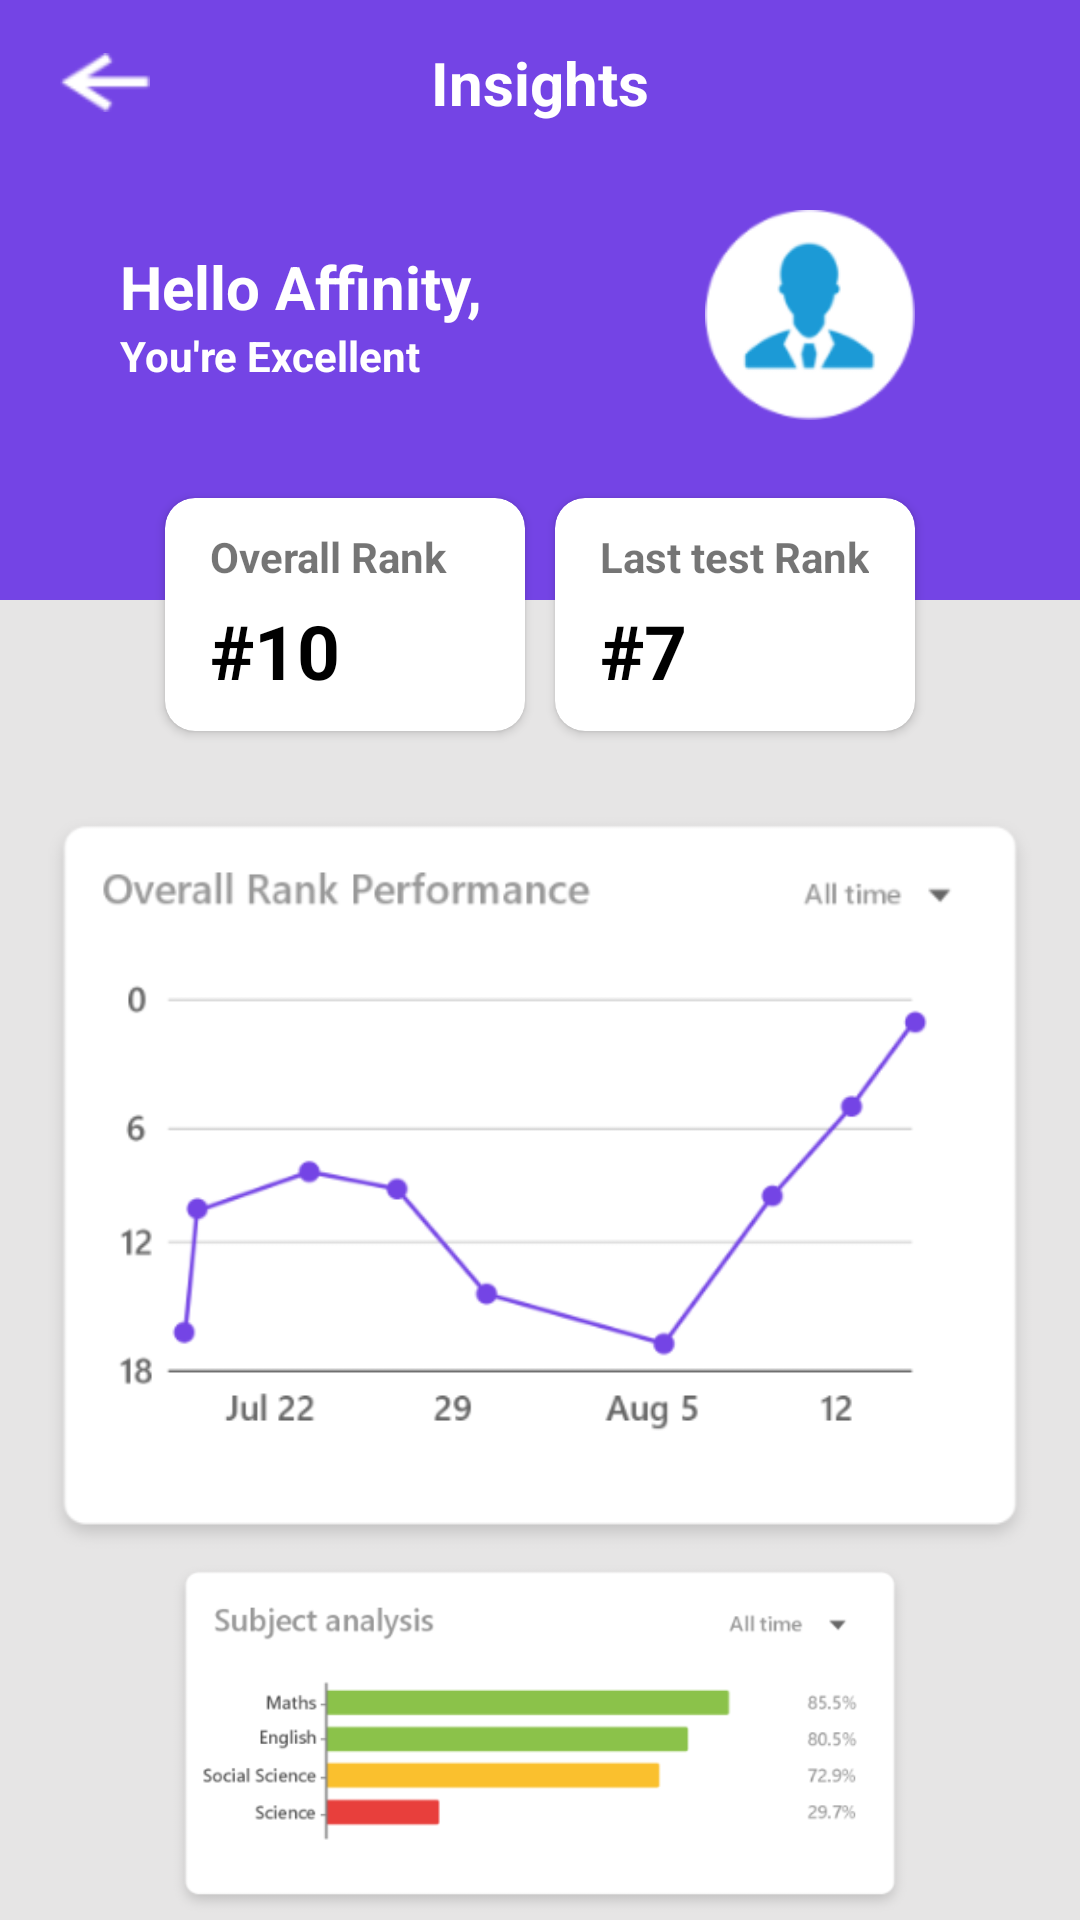

Icon click points for this 1080w x 1920h phone screenshot, format (x,y):
back: (105,82)
user profile: (810,315)
